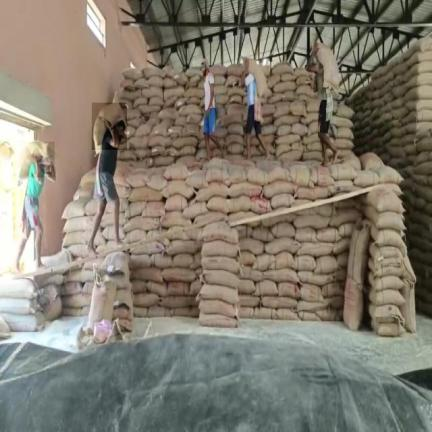Zone-Counting: (88, 102, 126, 252), (14, 141, 55, 271), (306, 44, 340, 165), (242, 57, 269, 157)
